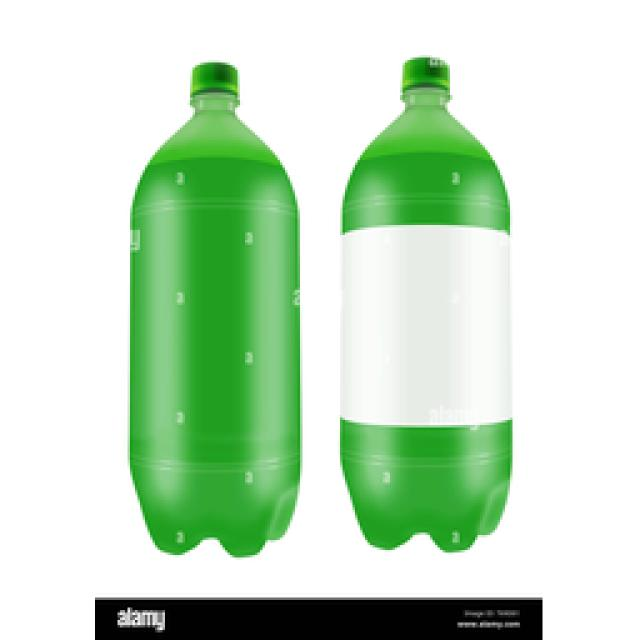plastic_soda_bottles: (126, 61, 303, 565), (334, 53, 513, 550)
